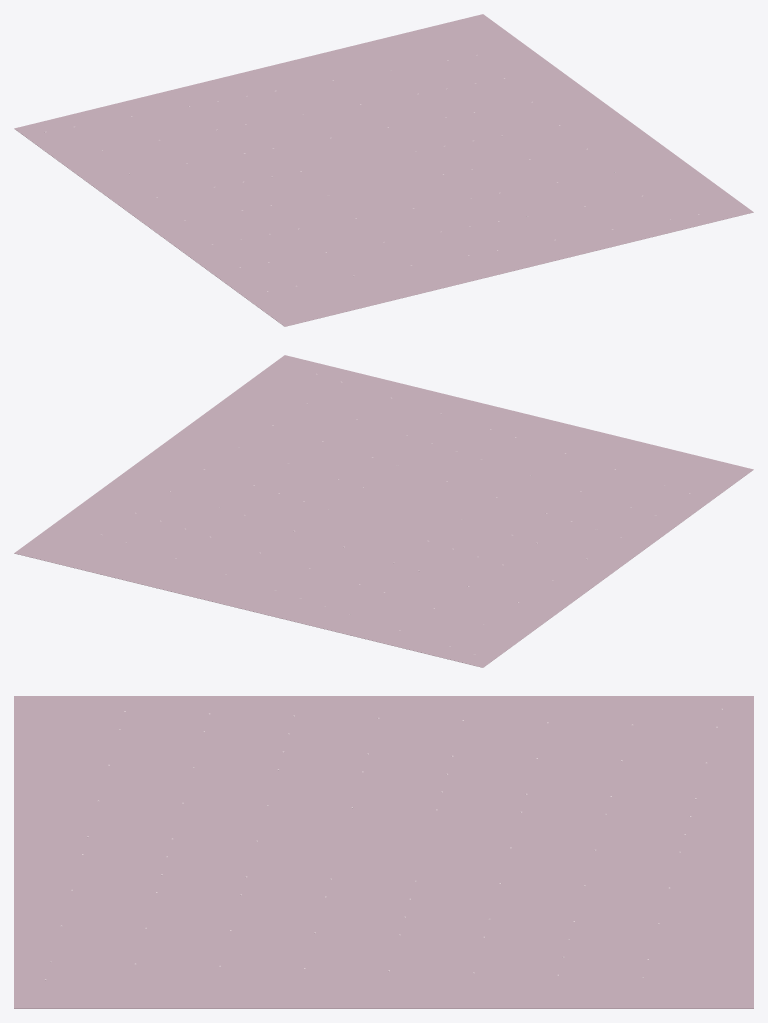
Rendered from fondo_rosa.glb.
3 renders of one model, top to bottom at view 1: azimuth 30°, elevation 25°; view 2: azimuth 150°, elevation 25°; view 3: azimuth 270°, elevation 25°, orthographic. The views are drawn at different scales.
Parts seen in each view (by area): view 1: fondo_rosa; view 2: fondo_rosa; view 3: fondo_rosa.
Part boxes in pixels (left/top/right/bottom): fondo_rosa: left=14, top=14, right=753, bottom=326; fondo_rosa: left=14, top=355, right=753, bottom=667; fondo_rosa: left=14, top=696, right=753, bottom=1008.
Bounding box in the file's own units: 140 × 0.08 × 140.
